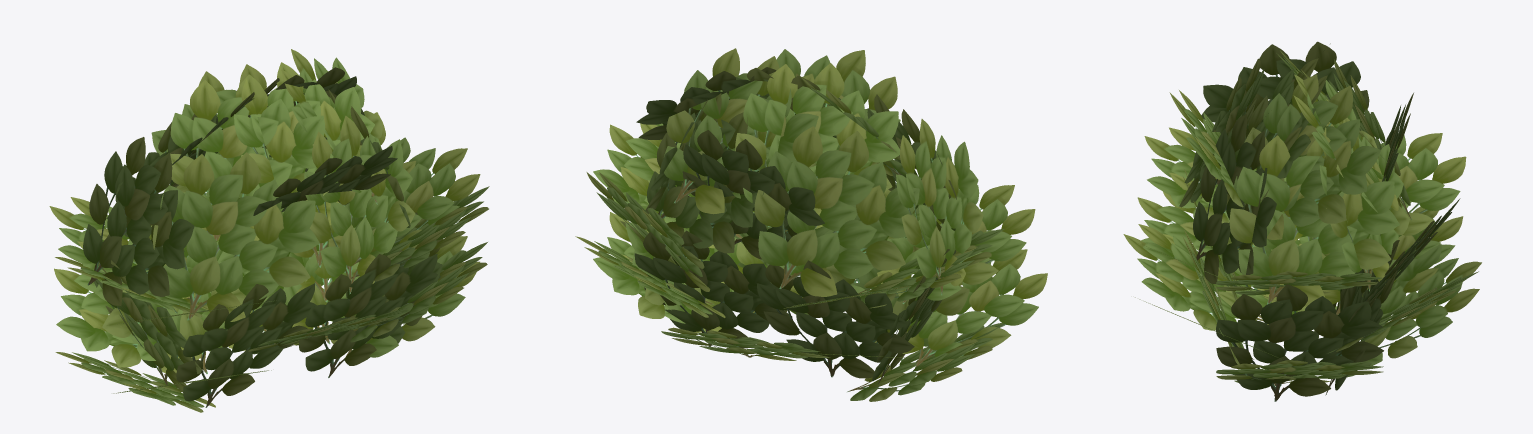
File: bush2.fbx
The picture shows the model from 3 angles, left to right: view 1: azimuth 30°, elevation 25°; view 2: azimuth 150°, elevation 25°; view 3: azimuth 270°, elevation 25°; orthographic projection.
Visible parts, largest first — view 1: dark_bush.006; view 2: dark_bush.006; view 3: dark_bush.006.
Part boxes in pixels (bbox=[...]): dark_bush.006: bbox=[49, 49, 489, 412]; dark_bush.006: bbox=[575, 48, 1047, 401]; dark_bush.006: bbox=[1123, 41, 1481, 401].
Bounding box in the file's own units: 1905 × 1391 × 1538.
